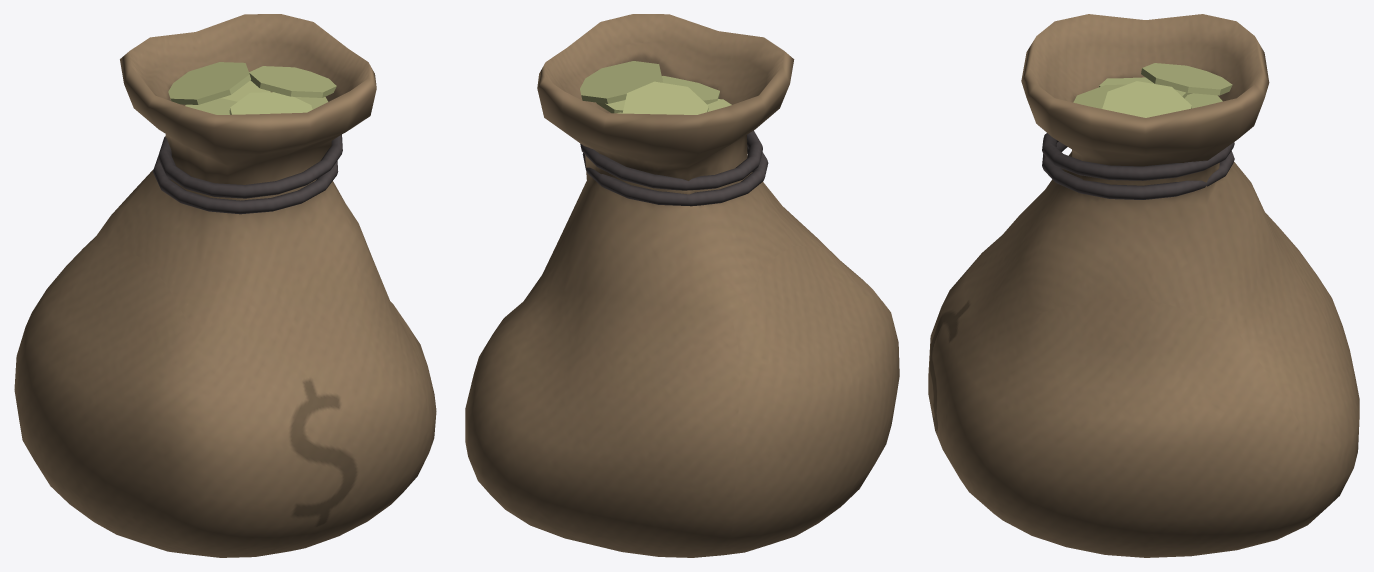
The model's file is Moneybag.fbx.
3 views of the same model, side by side, from view 1: azimuth 30°, elevation 25°; view 2: azimuth 150°, elevation 25°; view 3: azimuth 270°, elevation 25° (orthographic). The views are drawn at different scales.
Visible parts, largest first — view 1: Moneybag1; view 2: Moneybag1; view 3: Moneybag1.
Part boxes in pixels (bbox=[...]): Moneybag1: bbox=[14, 14, 436, 557]; Moneybag1: bbox=[465, 14, 899, 557]; Moneybag1: bbox=[928, 14, 1359, 557].
Size of the model in its own units: 1.73 by 2.12 by 1.74.
Materials: 2 (1 with a texture image).
